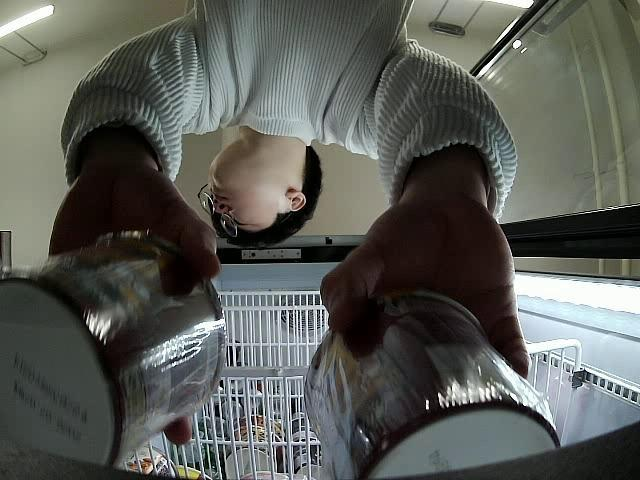06_nuguri_S: (0, 230, 226, 464), (303, 290, 562, 480)
